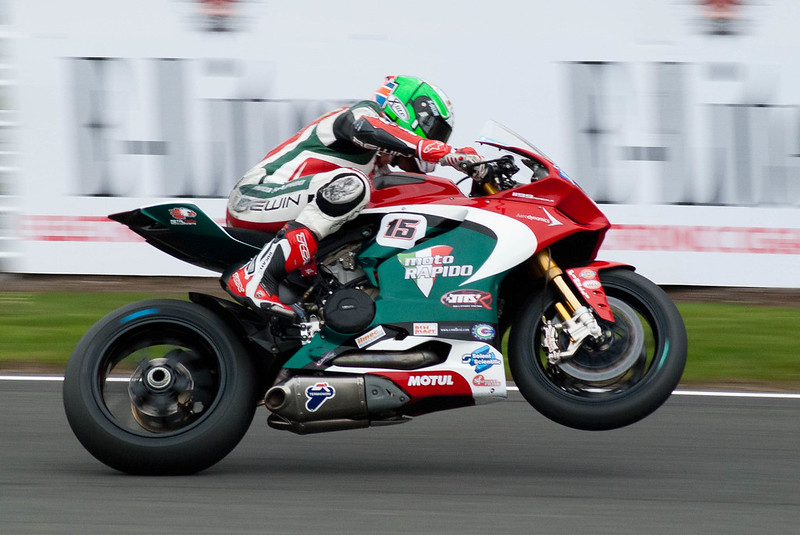helmet: (377, 73, 454, 149)
